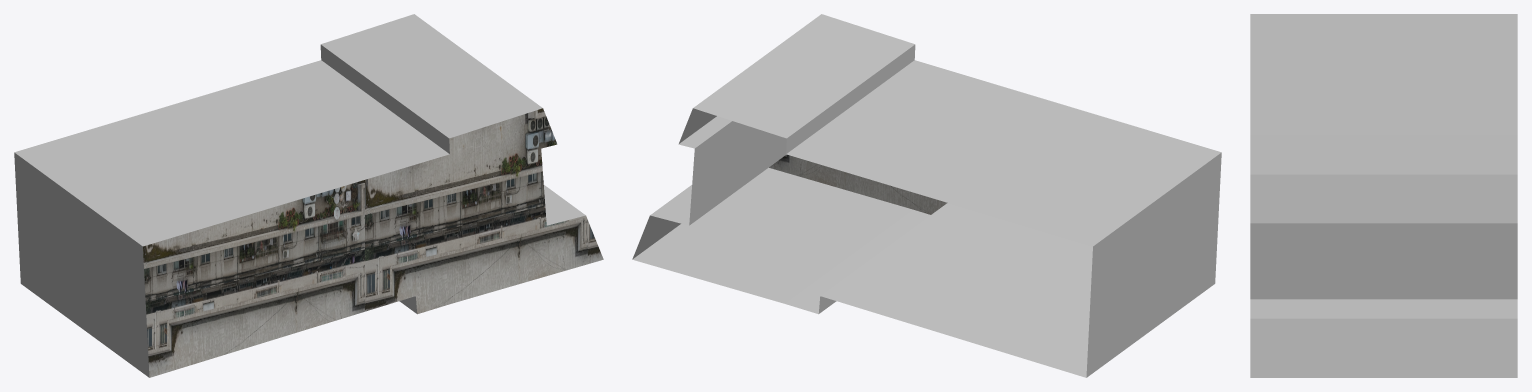
The model's file is geospecific_2060.obj.
3 views of the same model, side by side, from view 1: azimuth 30°, elevation 25°; view 2: azimuth 150°, elevation 25°; view 3: azimuth 270°, elevation 25° (orthographic). The views are drawn at different scales.
Parts seen in each view (by area): view 1: Building; view 2: Building; view 3: Building.
Part boxes in pixels (box(x1,y1,x2,y2)): Building: box(14, 14, 603, 377); Building: box(632, 14, 1221, 377); Building: box(1250, 14, 1517, 377).
Bounding box in the file's own units: 37.21 × 13.53 × 18.
